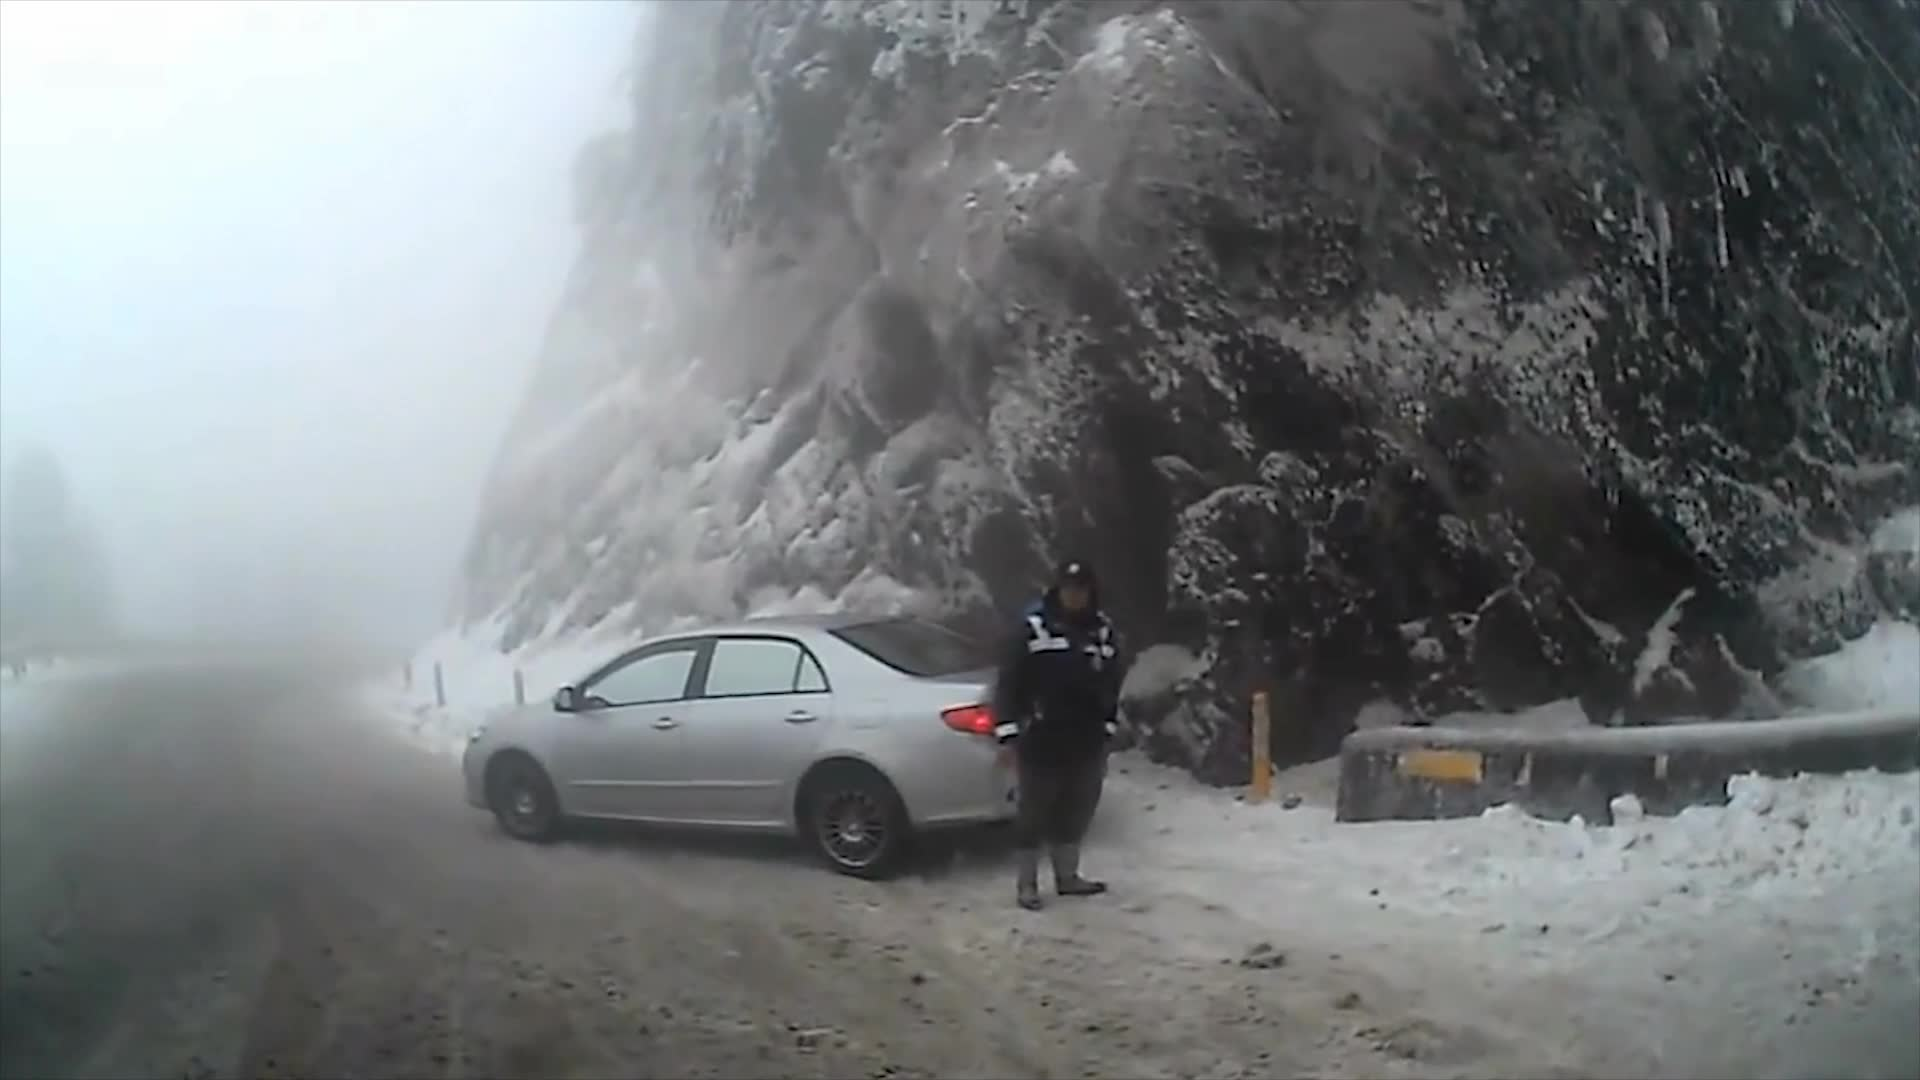pedestrian: (1006, 570, 1136, 918)
vehicle: (461, 609, 1106, 878)
